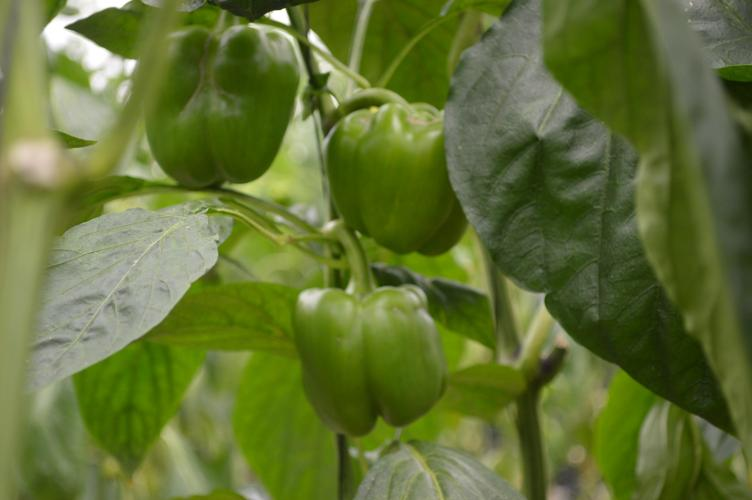BellPepper: (134, 26, 302, 188), (320, 104, 464, 258), (291, 293, 444, 430)
